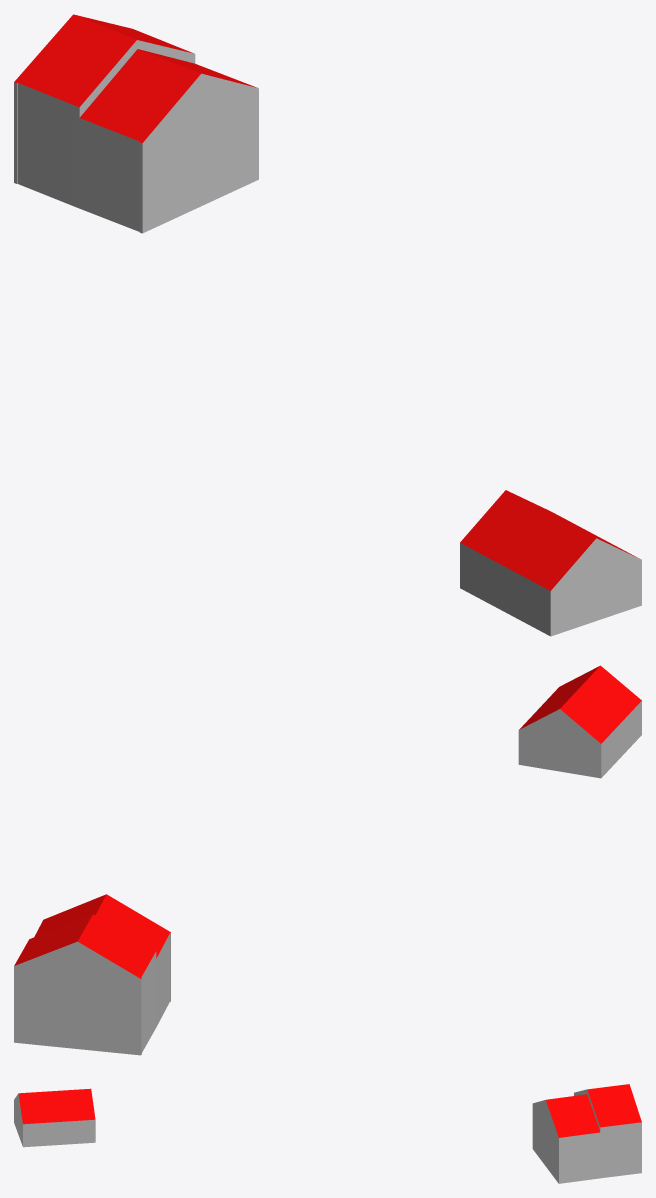
3 views of the same model, one above another, from view 1: azimuth 30°, elevation 25°; view 2: azimuth 150°, elevation 25°; view 3: azimuth 270°, elevation 25° (orthographic). The views are drawn at different scales.
Size of the model in its own units: 21.63 by 10.96 by 87.22.
